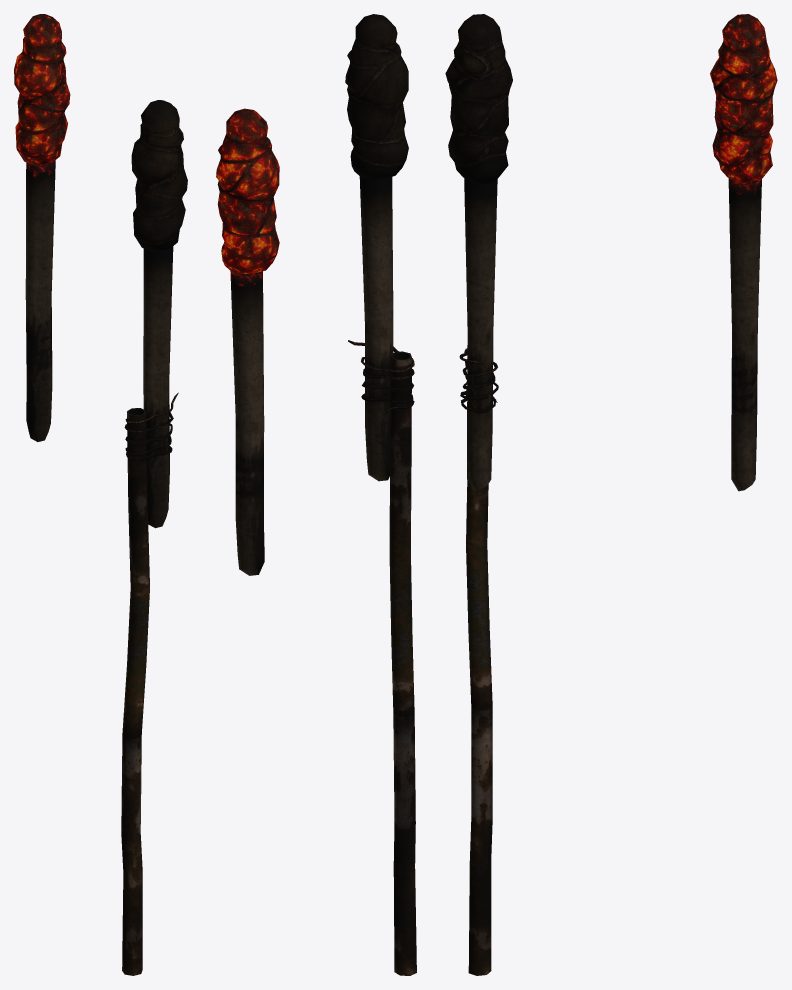
3 renders of one model, left to right at view 1: azimuth 30°, elevation 25°; view 2: azimuth 150°, elevation 25°; view 3: azimuth 270°, elevation 25°, orthographic. The views are drawn at different scales.
Visible parts, largest first — view 1: torch.001, torch, Stand; view 2: torch.001, torch, Stand; view 3: torch.001, torch, Stand.
Boxes of the visible parts, box(x1,y1,x2,y2) form: torch.001: box(14, 14, 70, 441); torch: box(131, 100, 187, 528); Stand: box(121, 392, 178, 975); torch.001: box(216, 108, 279, 575); torch: box(345, 14, 408, 481); Stand: box(348, 340, 416, 975); torch.001: box(710, 14, 777, 491); torch: box(445, 14, 512, 491); Stand: box(459, 348, 498, 975).
Bounding box in the file's own units: 12.69 × 176 × 54.57.
2 materials, 2 textured.
